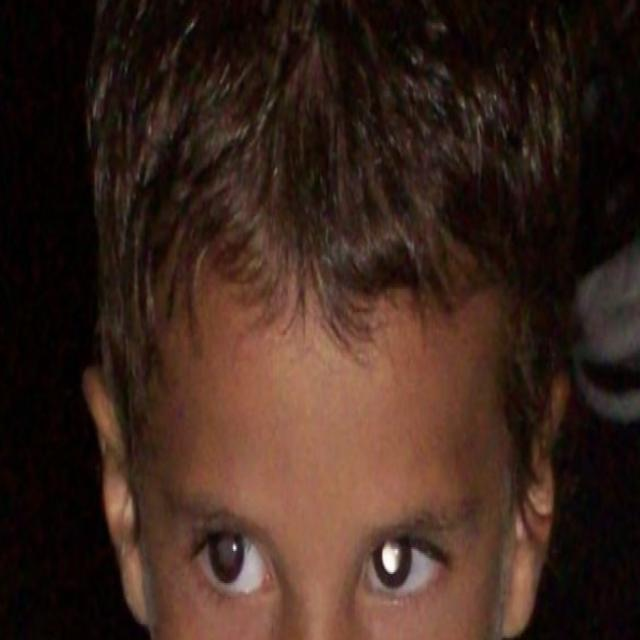reflexo-alterado: (194, 519, 276, 619)
reflexo-normal: (364, 534, 443, 606)
